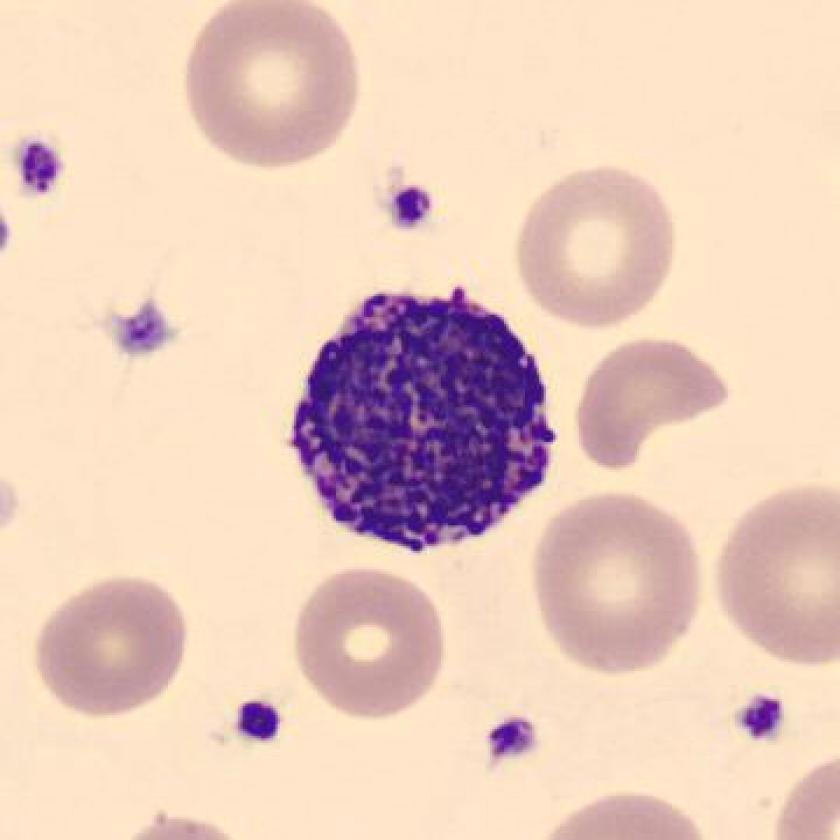basophil: (272, 274, 559, 566)
